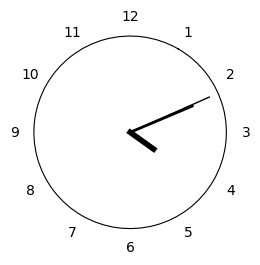12: (122, 9, 139, 23)
circle: (33, 36, 227, 229)
hours: (126, 129, 157, 151)
minutes: (134, 105, 193, 131)
seconds: (134, 96, 210, 130)
